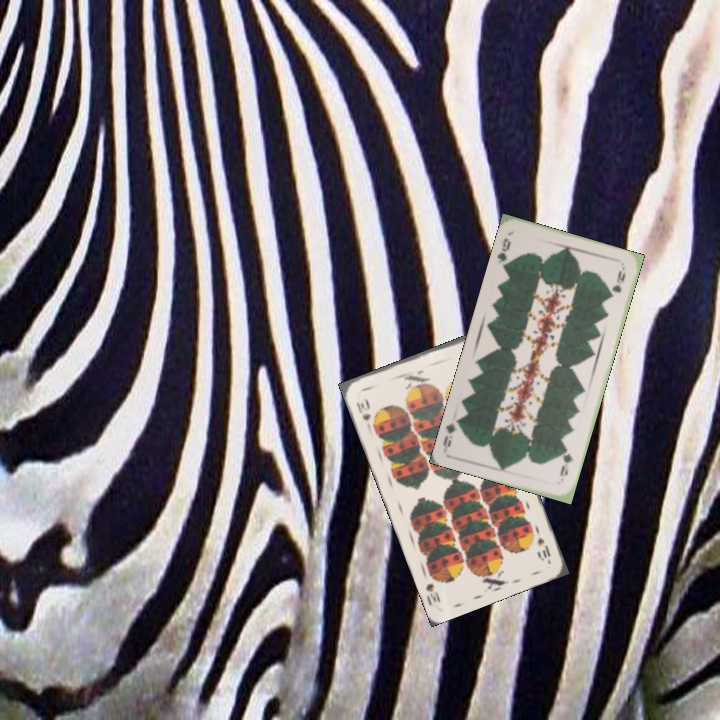G9: (556, 445, 575, 479), (493, 234, 513, 266)
S10: (352, 396, 373, 431), (533, 533, 553, 563)
